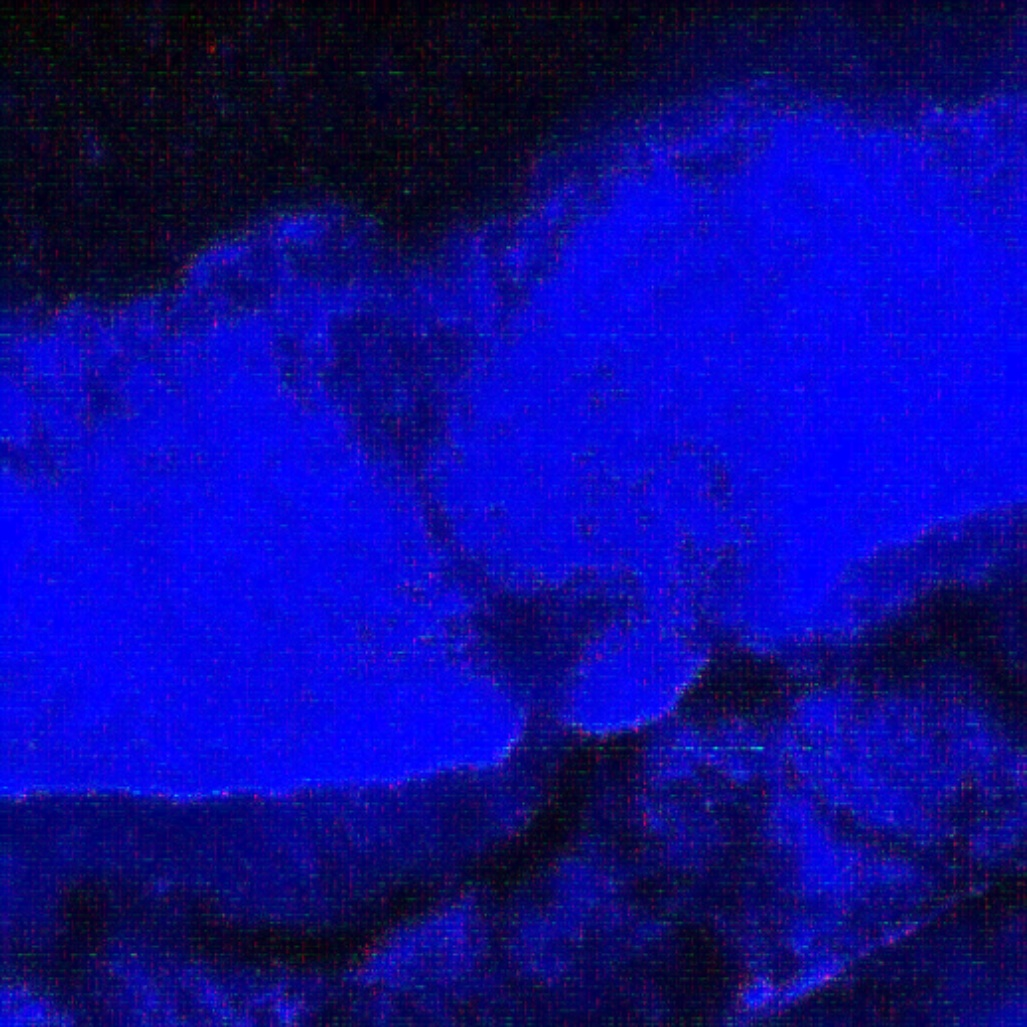rip_current: (205, 188, 700, 707)
